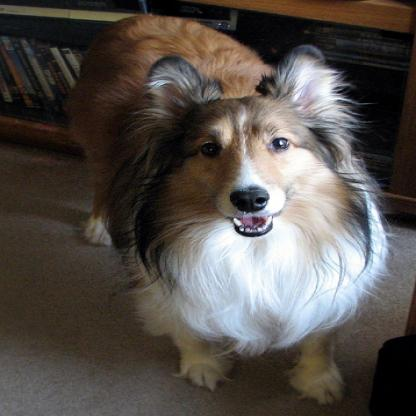Shetland_sheepdog: (52, 8, 390, 402)
